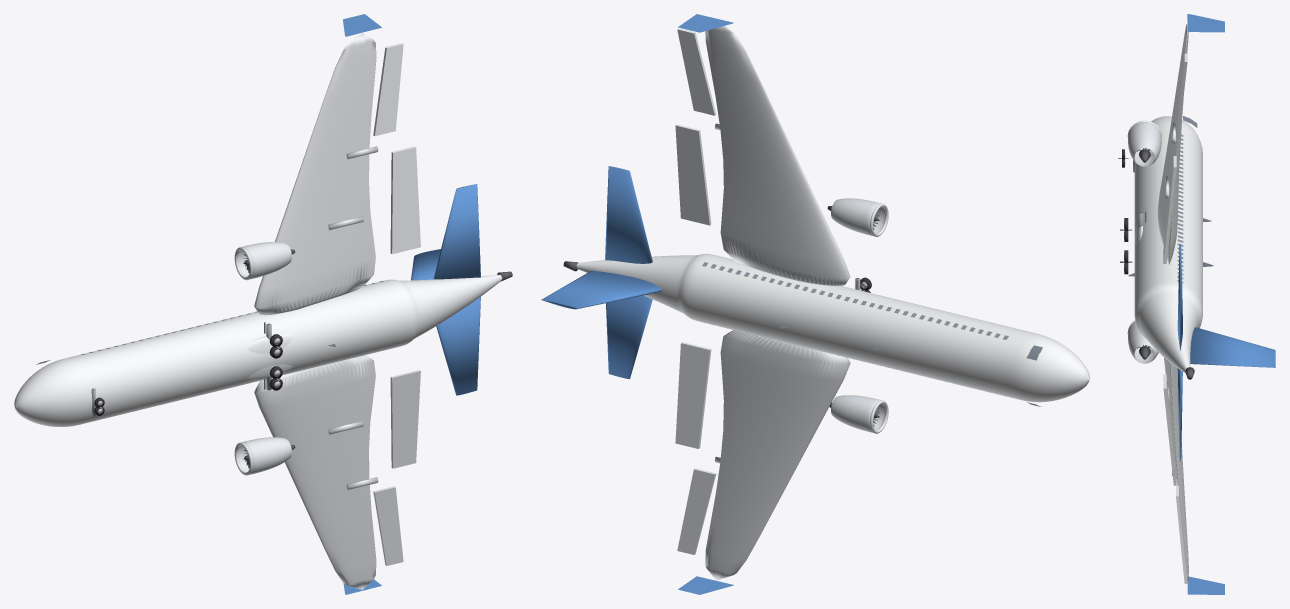
The picture shows the model from 3 angles, left to right: view 1: azimuth 30°, elevation 25°; view 2: azimuth 150°, elevation 25°; view 3: azimuth 270°, elevation 25°; orthographic projection.
Parts seen in each view (by area): view 1: Fuselage, Wing_R, Wing_L, HStab_R, HStab_L, Flap_R, Flap_L, Aileron_R, Aileron_L, Nacelle_-1_0, Nacelle_1_0, BellyFairing (+1 smaller); view 2: Fuselage, Wing_L, Wing_R, HStab_R, Flap_L, HStab_L, Fin, Flap_R, Aileron_L, Aileron_R, Nacelle_-1_0, Nacelle_1_0 (+1 smaller); view 3: Fuselage, Fin, Wing_R, Wing_L, Nacelle_1_0, Nacelle_-1_0, Sharklet_R, Sharklet_L, Flap_L, Flap_R, HStab_R, Aileron_L (+3 smaller).
Part boxes in pixels (bbox=[...]): Fuselage: bbox=[14, 275, 502, 426]; Wing_R: bbox=[254, 33, 376, 315]; Wing_L: bbox=[254, 355, 376, 589]; HStab_R: bbox=[433, 184, 480, 279]; HStab_L: bbox=[436, 296, 480, 395]; Flap_R: bbox=[390, 146, 420, 254]; Flap_L: bbox=[390, 370, 420, 468]; Aileron_R: bbox=[373, 43, 403, 135]; Aileron_L: bbox=[373, 486, 403, 565]; Nacelle_-1_0: bbox=[238, 437, 291, 474]; Nacelle_1_0: bbox=[238, 242, 291, 279]; BellyFairing: bbox=[246, 333, 293, 379]; Fuselage: bbox=[576, 253, 1089, 402]; Wing_L: bbox=[705, 330, 850, 580]; Wing_R: bbox=[705, 26, 850, 285]; HStab_R: bbox=[605, 166, 652, 263]; Flap_L: bbox=[675, 342, 711, 448]; HStab_L: bbox=[606, 295, 652, 379]; Fin: bbox=[541, 270, 661, 309]; Flap_R: bbox=[675, 124, 711, 225]; Aileron_L: bbox=[677, 468, 716, 554]; Aileron_R: bbox=[677, 28, 716, 115]; Nacelle_-1_0: bbox=[831, 395, 885, 432]; Nacelle_1_0: bbox=[831, 198, 885, 235]; Fuselage: bbox=[1134, 116, 1202, 372]; Fin: bbox=[1190, 327, 1275, 367]; Wing_R: bbox=[1157, 23, 1188, 264]; Wing_L: bbox=[1164, 357, 1188, 583]; Nacelle_1_0: bbox=[1128, 122, 1161, 166]; Nacelle_-1_0: bbox=[1128, 321, 1158, 363]; Sharklet_R: bbox=[1187, 14, 1224, 32]; Sharklet_L: bbox=[1187, 576, 1224, 594]; Flap_L: bbox=[1163, 374, 1176, 485]; Flap_R: bbox=[1163, 156, 1176, 263]; HStab_R: bbox=[1177, 244, 1182, 350]; Aileron_L: bbox=[1176, 486, 1187, 583].
Size of the model in its own units: 34.14 by 35.8 by 9.07.
